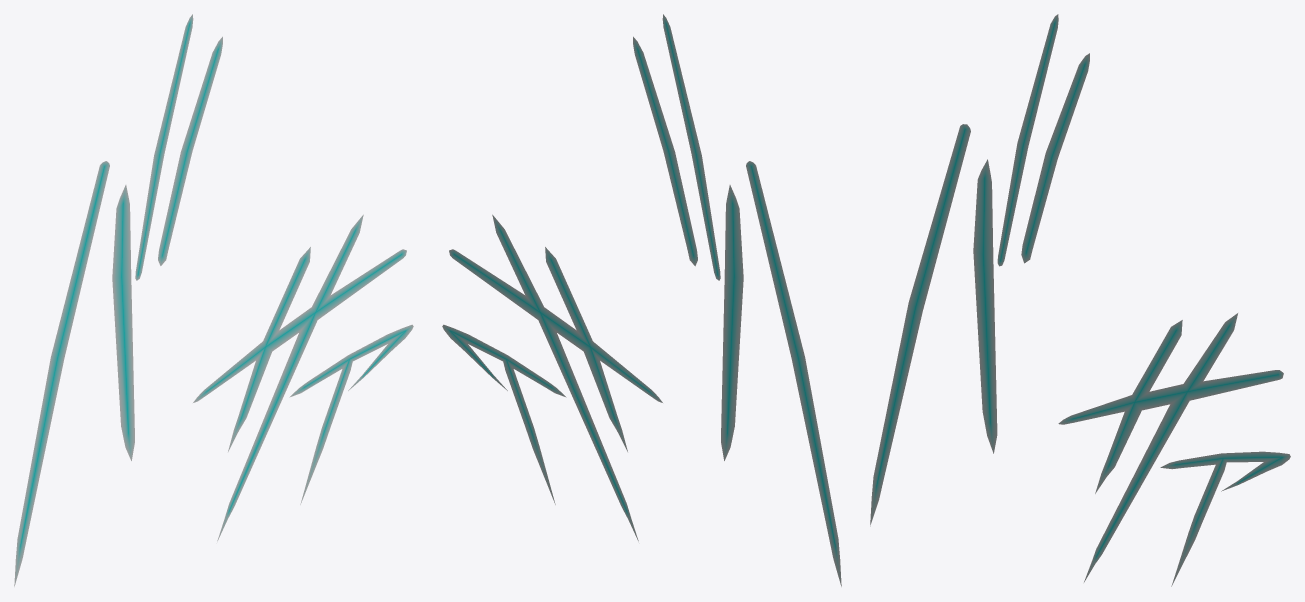
The model's file is SM_EFF_Text_AngelicAdvent_01.glb.
3 renders of one model, left to right at view 1: azimuth 30°, elevation 25°; view 2: azimuth 150°, elevation 25°; view 3: azimuth 330°, elevation 25°, orthographic. The views are drawn at different scales.
Visible parts, largest first — view 1: SM_EFF_Text_AngelicAdvent_01; view 2: SM_EFF_Text_AngelicAdvent_01; view 3: SM_EFF_Text_AngelicAdvent_01.
Boxes of the visible parts, <box> form: SM_EFF_Text_AngelicAdvent_01: <box>14,14,413,586</box>; SM_EFF_Text_AngelicAdvent_01: <box>442,14,841,586</box>; SM_EFF_Text_AngelicAdvent_01: <box>870,14,1290,586</box>.
Bounding box in the file's own units: 2.36 × 3.02 × 4.57e-06.
